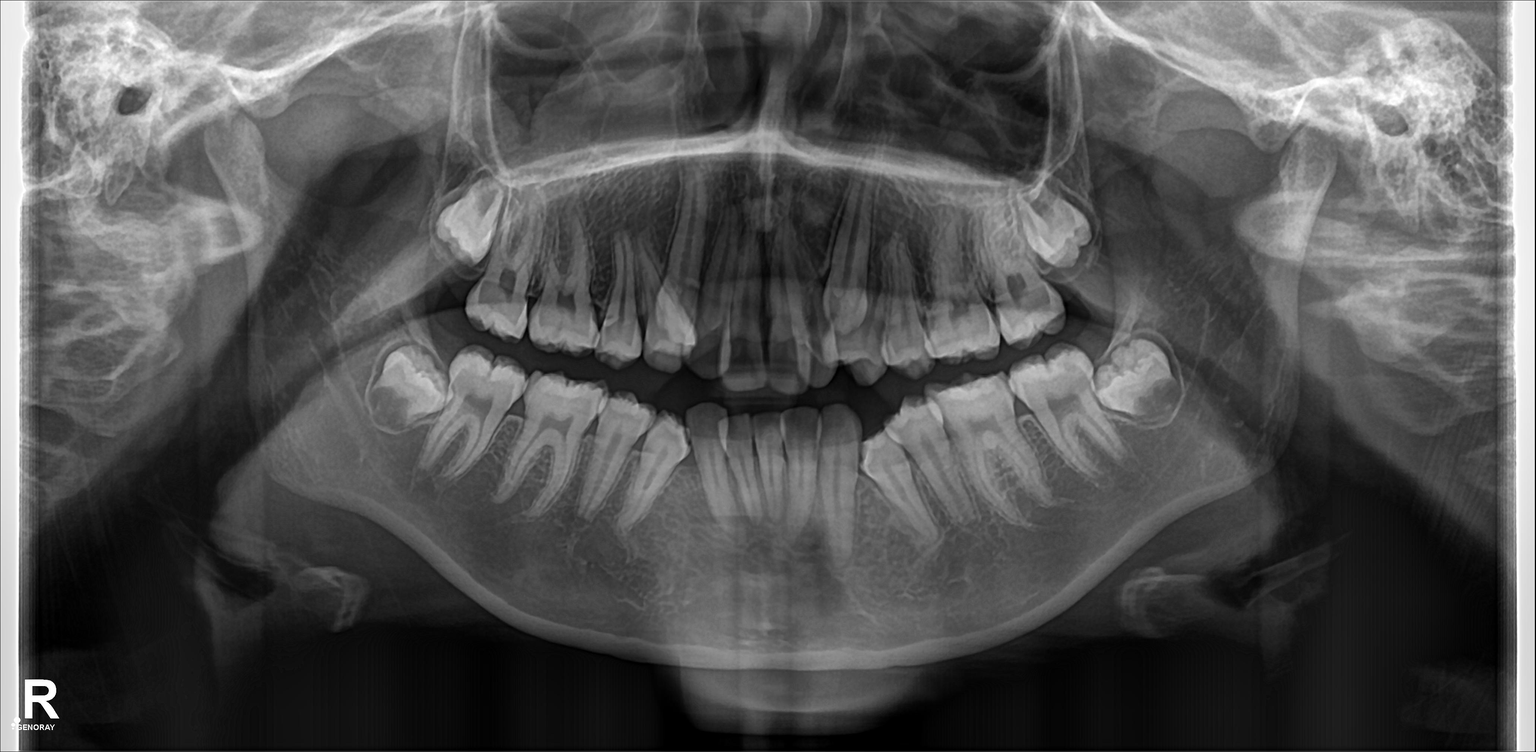Impacted Third Molar: (358, 359, 453, 426), (1102, 341, 1171, 426), (436, 186, 508, 258), (1021, 188, 1088, 258)
